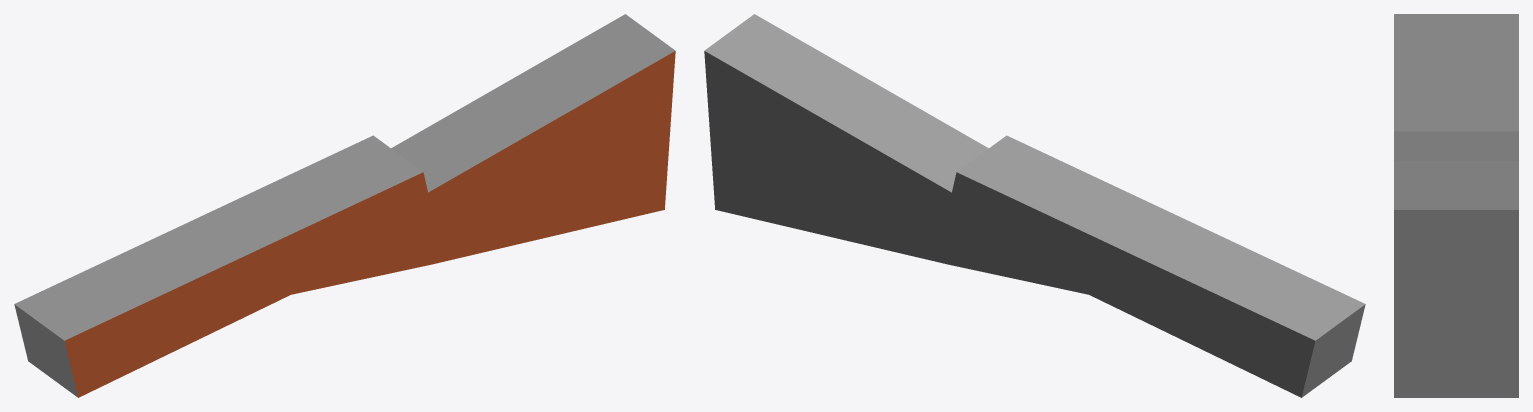
File: construction_0370_assumed_A_Casa_h6m.obj
The picture shows the model from 3 angles, left to right: view 1: azimuth 30°, elevation 25°; view 2: azimuth 150°, elevation 25°; view 3: azimuth 270°, elevation 25°; orthographic projection. The views are drawn at different scales.
Visible parts, largest first — view 1: construction_0370_assumed_A_Casa; view 2: construction_0370_assumed_A_Casa; view 3: construction_0370_assumed_A_Casa.
Boxes of the visible parts, left/top/right/bottom form: construction_0370_assumed_A_Casa: left=14, top=14, right=675, bottom=397; construction_0370_assumed_A_Casa: left=704, top=14, right=1365, bottom=397; construction_0370_assumed_A_Casa: left=1394, top=14, right=1518, bottom=397.
Bounding box in the file's own units: 42.17 × 13.28 × 6.
